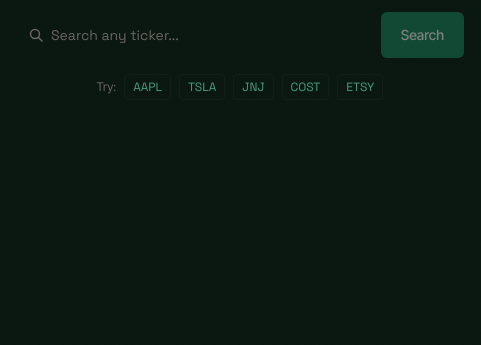
Test: HeroSearch › shows eliminated badge for eliminated tickers
Type "XYZ" into the field with placeholder "Search any ticker..." at (205, 35), box 51,25 -> 360,45
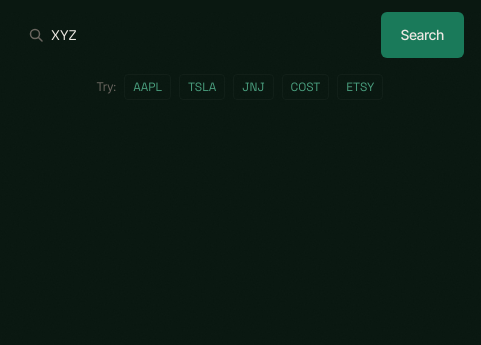
Submit the form with placeholder "search any ticker", box 16,12 -> 464,58
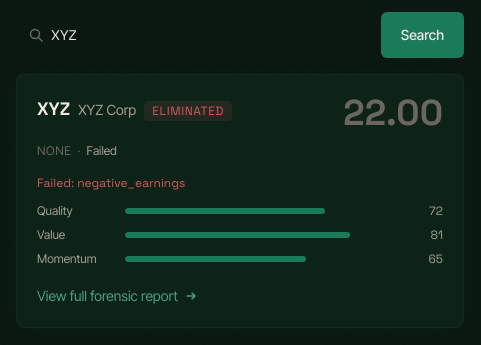
Check: the text "Eliminated" is shown, box 144,101 -> 232,121
Check: the text "Failed: negative_earnings" is shown, box 37,175 -> 185,191
